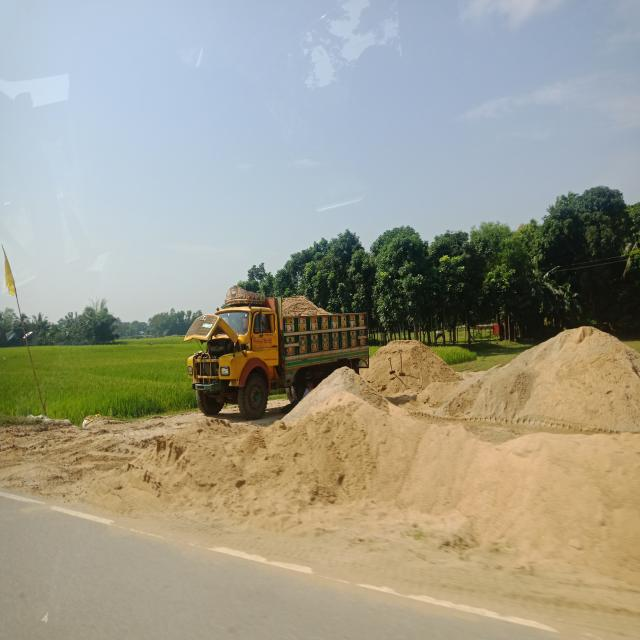truck: (178, 278, 378, 430)
